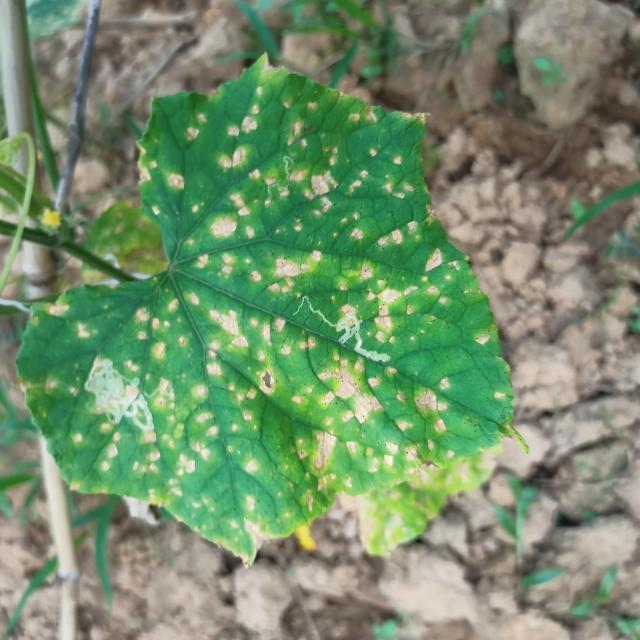disease_cucumber: (40, 100, 478, 516)
